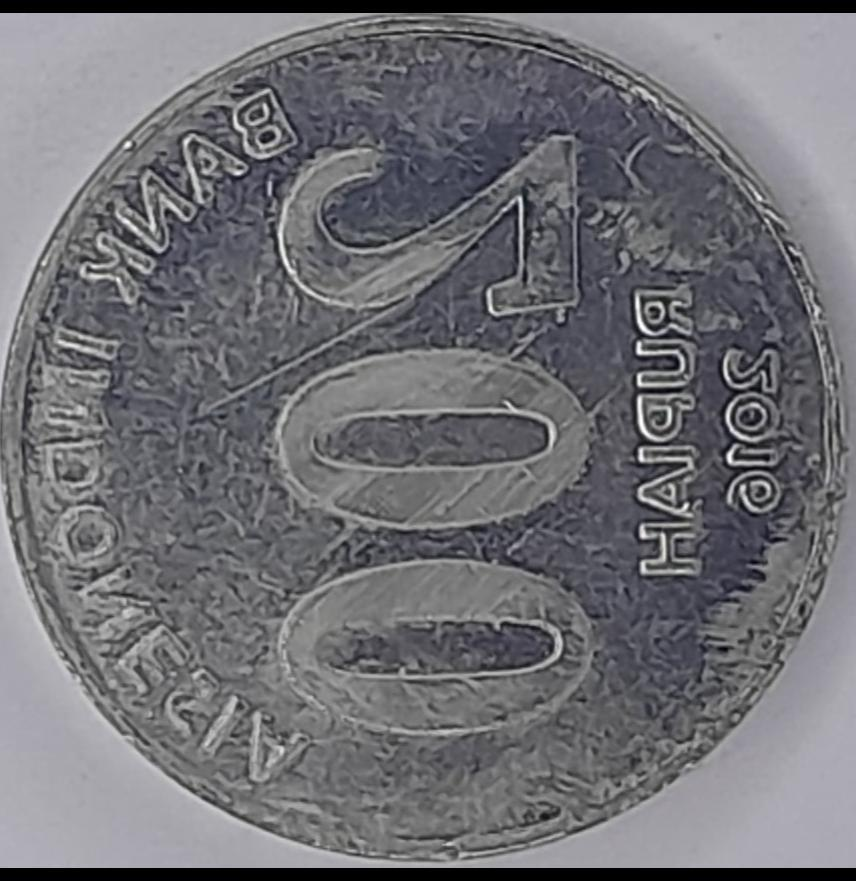coin_200_e2016: (0, 15, 856, 881)
